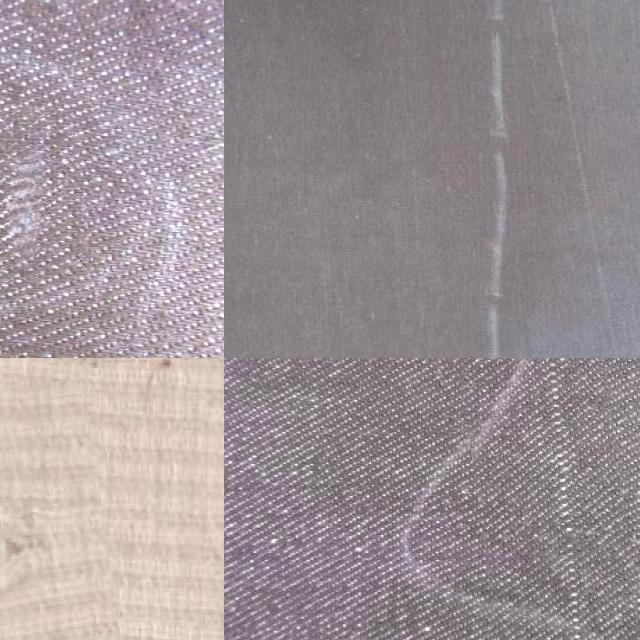Thread_other: (441, 358, 629, 640), (515, 0, 640, 358), (0, 106, 87, 282)
seam: (0, 383, 112, 640)
